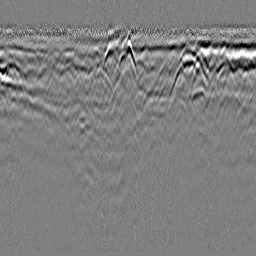cavity: (114, 39, 138, 74)
